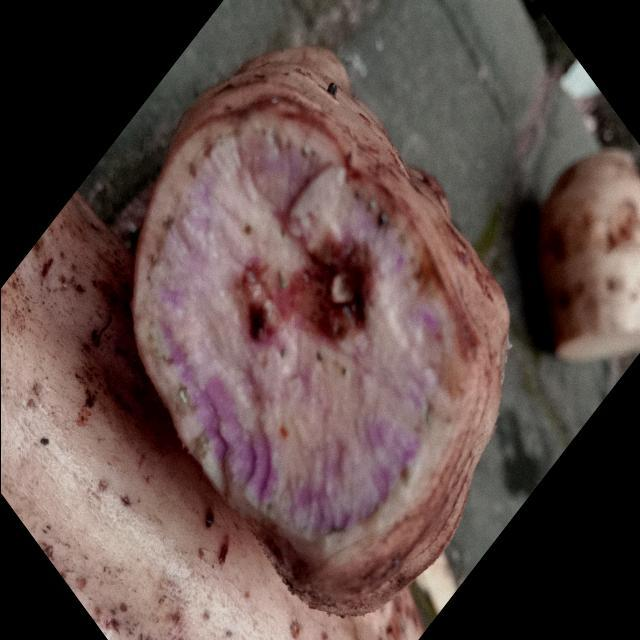Sick Sweet Potato_Tuber Rot: (149, 122, 450, 540)
